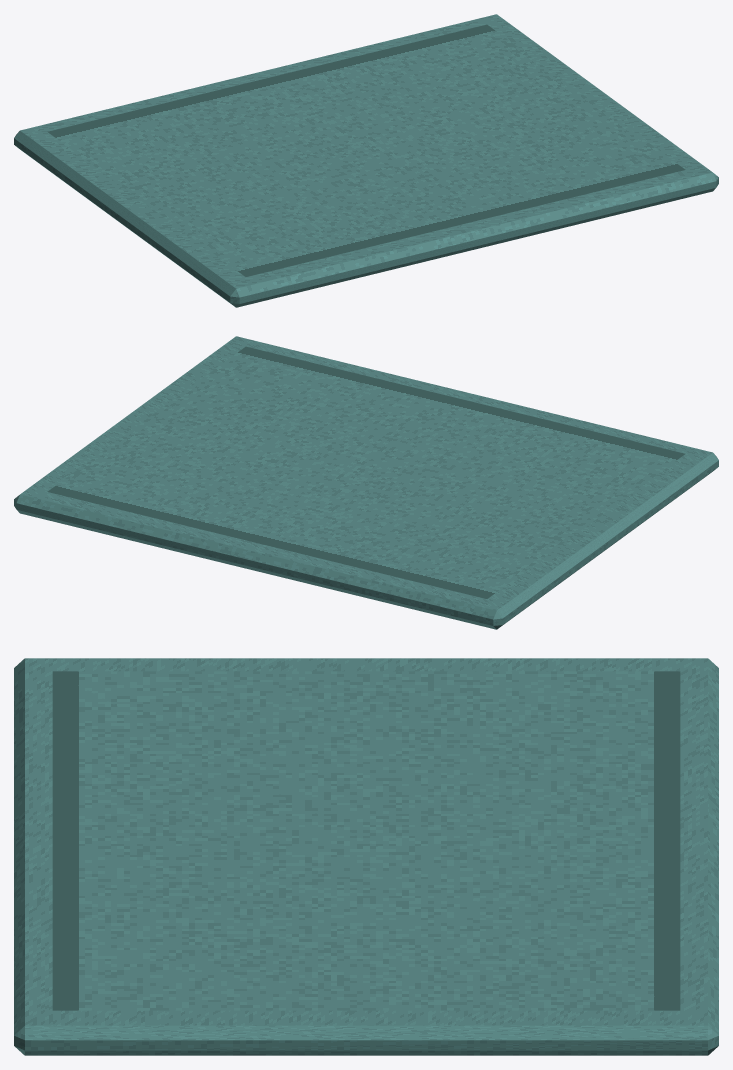
Rendered from sheet.glb.
3 renders of one model, top to bottom at view 1: azimuth 30°, elevation 25°; view 2: azimuth 150°, elevation 25°; view 3: azimuth 270°, elevation 25°, orthographic. The views are drawn at different scales.
Visible parts, largest first — view 1: block_hem or woven pattern, block_folded textile; view 2: block_hem or woven pattern, block_folded textile; view 3: block_hem or woven pattern, block_folded textile.
Boxes of the visible parts, x1,y1,x2,y2 form: block_hem or woven pattern: (47,24,685,276); block_folded textile: (14,14,718,307); block_hem or woven pattern: (47,346,685,598); block_folded textile: (14,336,718,629); block_hem or woven pattern: (52,671,680,1010); block_folded textile: (14,658,718,1055).
Bounding box in the file's own units: 0.43 × 0.0165 × 0.34.
Materials: 1 (1 with a texture image).
